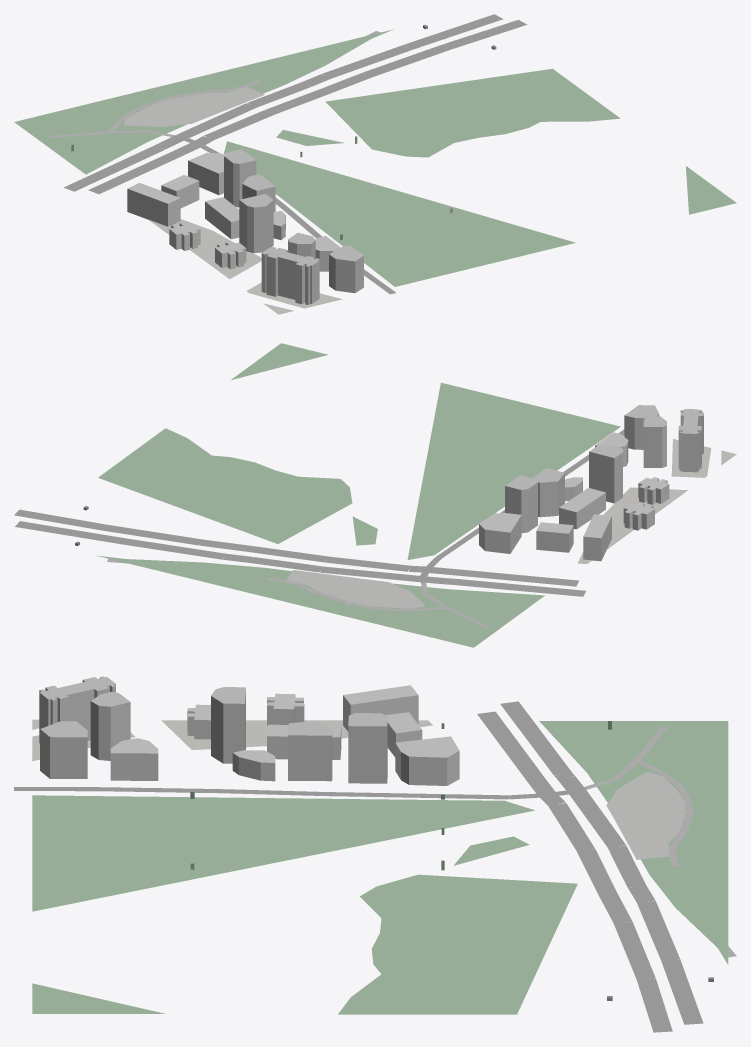
The picture shows the model from 3 angles, top to bottom: view 1: azimuth 30°, elevation 25°; view 2: azimuth 150°, elevation 25°; view 3: azimuth 270°, elevation 25°; orthographic projection. The views are drawn at different scales.
Size of the model in its own units: 562 by 48.61 by 520.
